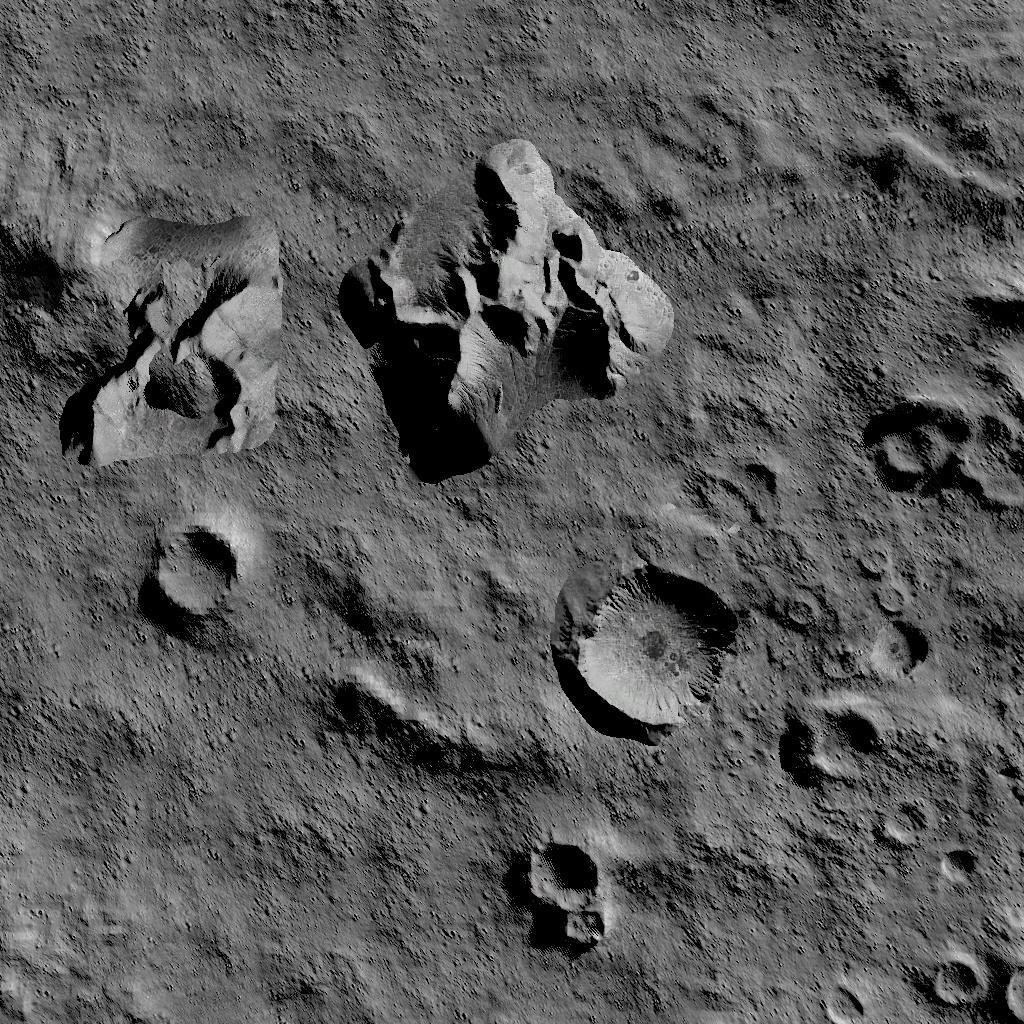Boulders: (341, 136, 676, 484), (1, 186, 285, 468)
Crater: (567, 562, 735, 740), (861, 388, 1024, 516), (517, 828, 612, 946), (149, 520, 245, 628), (792, 696, 890, 786), (923, 940, 1024, 1024), (853, 616, 932, 686), (816, 974, 872, 1024), (869, 800, 927, 848), (936, 844, 980, 888), (777, 590, 820, 628)
Plan surface: (3, 640, 338, 1024), (343, 0, 1024, 122), (3, 0, 325, 176), (351, 756, 506, 1024)
